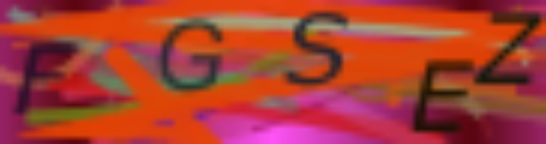E: (409, 56, 478, 137)
F: (14, 41, 78, 117)
G: (155, 18, 226, 93)
S: (281, 8, 352, 90)
Z: (476, 10, 546, 86)
